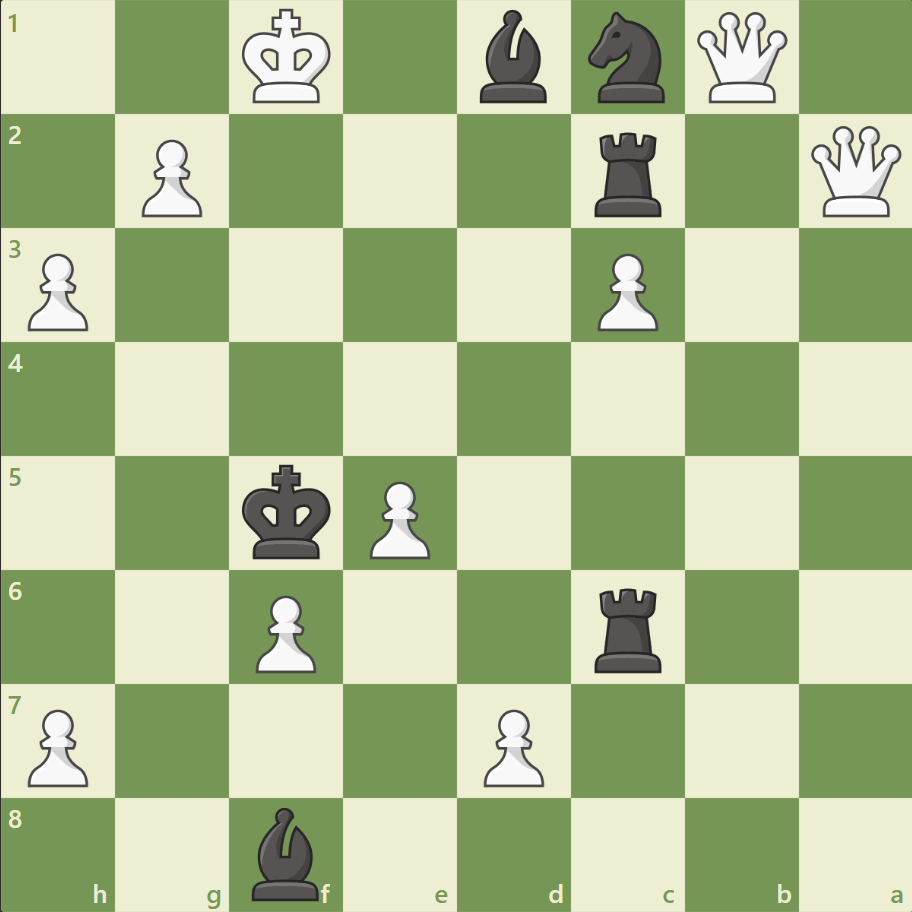K: (238, 4, 338, 112)
P: (474, 700, 549, 791), (20, 700, 95, 791), (247, 586, 322, 677), (20, 246, 95, 337), (133, 132, 208, 223), (361, 473, 435, 564), (588, 246, 662, 337)
Q: (805, 122, 904, 222), (691, 9, 790, 108)
b: (244, 801, 328, 904), (471, 6, 555, 109)
k: (238, 458, 338, 566)
n: (579, 7, 676, 110)
r: (587, 579, 670, 676), (587, 125, 670, 222)
